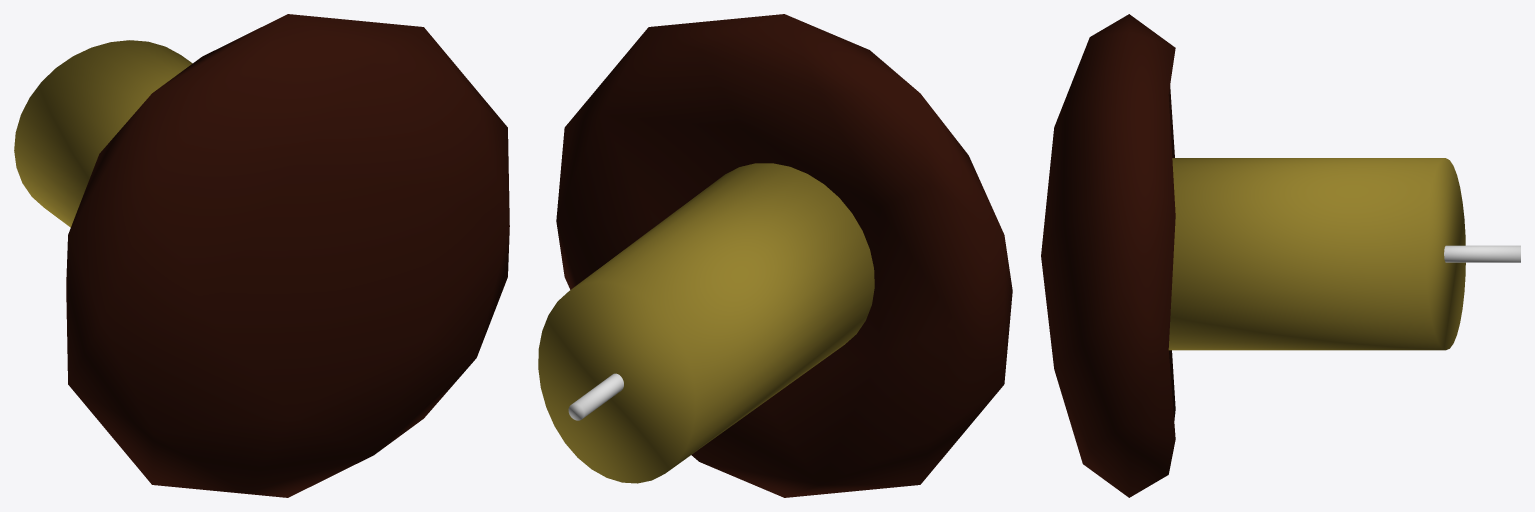
The model's file is SCandle.fbx.
3 views of the same model, side by side, from view 1: azimuth 30°, elevation 25°; view 2: azimuth 150°, elevation 25°; view 3: azimuth 270°, elevation 25° (orthographic). The views are drawn at different scales.
Visible parts, largest first — view 1: Cylinder.006; view 2: Cylinder.006; view 3: Cylinder.006.
Part boxes in pixels (x1,y1,x2,y2): Cylinder.006: [14, 14, 509, 497]; Cylinder.006: [538, 14, 1012, 497]; Cylinder.006: [1041, 14, 1520, 497].
Size of the model in its own units: 0.1976 by 0.2078 by 0.2023.
